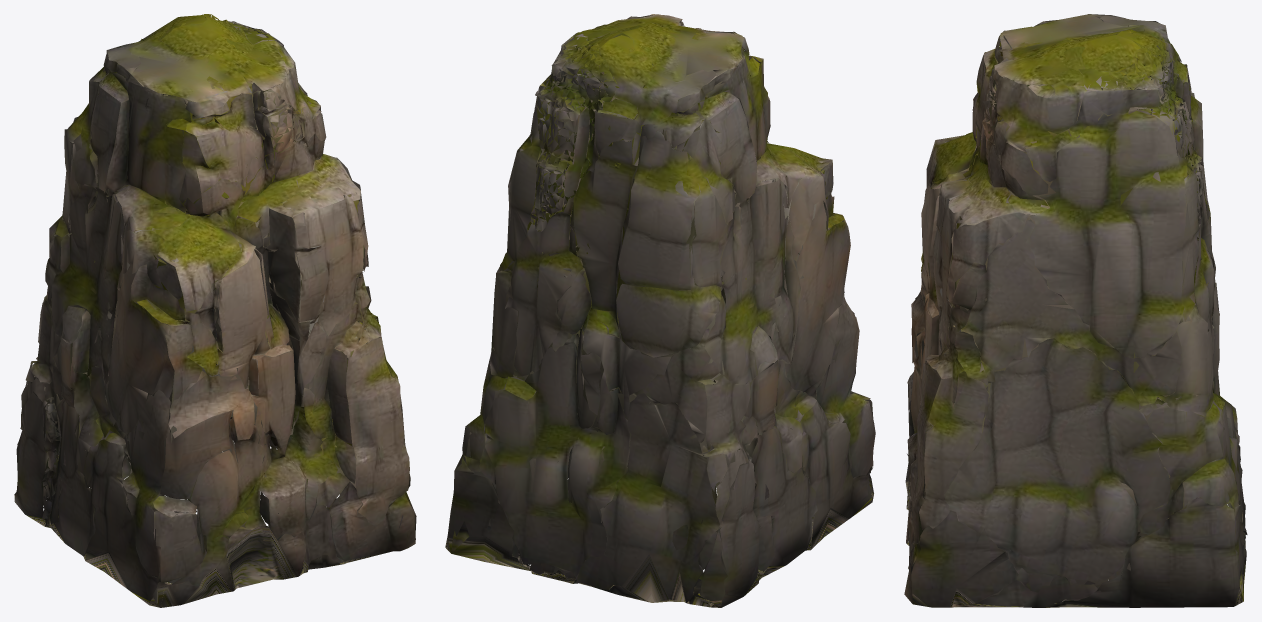
File: cliff_hy3d.glb
The picture shows the model from 3 angles, left to right: view 1: azimuth 30°, elevation 25°; view 2: azimuth 150°, elevation 25°; view 3: azimuth 270°, elevation 25°; orthographic projection. The views are drawn at different scales.
Visible parts, largest first — view 1: node_0; view 2: node_0; view 3: node_0.
Part boxes in pixels (x1,y1,x2,y2): node_0: [14, 14, 416, 607]; node_0: [445, 14, 875, 607]; node_0: [904, 14, 1247, 607].
Bounding box in the file's own units: 0.5485 × 0.9352 × 0.5672.
1 material, 1 textured.
